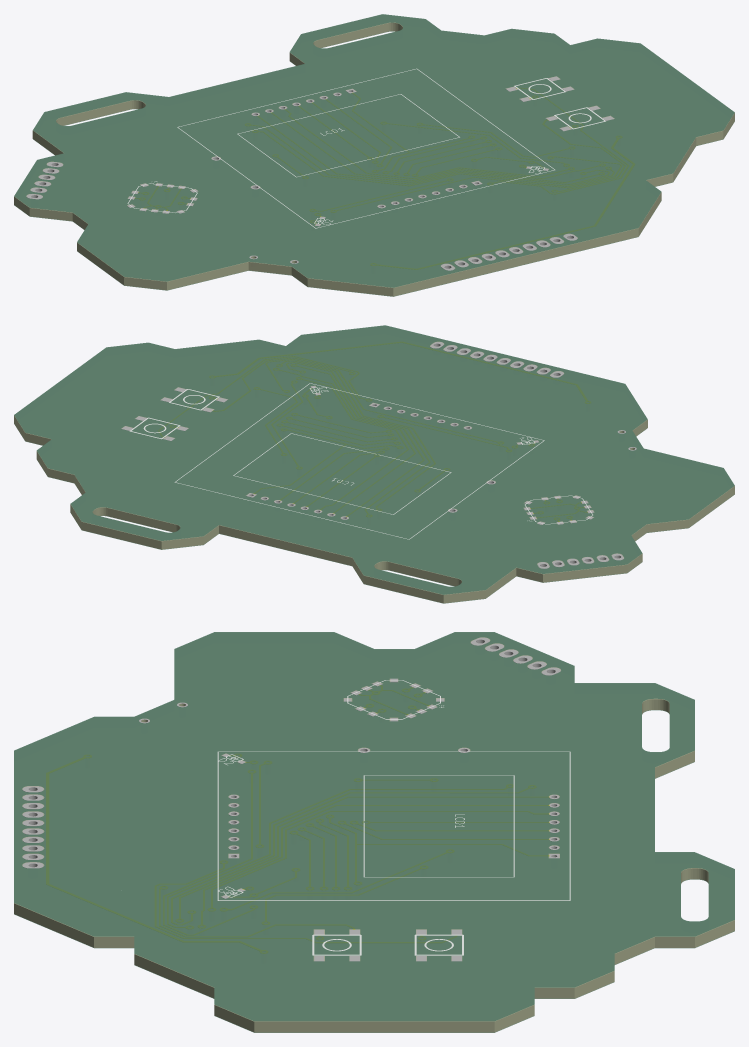
File: bsidesslc-2015-electronic-badge.glb
The picture shows the model from 3 angles, top to bottom: view 1: azimuth 30°, elevation 25°; view 2: azimuth 150°, elevation 25°; view 3: azimuth 270°, elevation 25°; orthographic projection. The views are drawn at different scales.
Parts seen in each view (by area): view 1: =>[0:1:1:7], =>[0:1:1:9], =>[0:1:1:2], =>[0:1:1:5]; view 2: =>[0:1:1:7], =>[0:1:1:9], =>[0:1:1:2], =>[0:1:1:5]; view 3: =>[0:1:1:7], =>[0:1:1:9], =>[0:1:1:2], =>[0:1:1:5].
Boxes of the visible parts, x1,y1,x2,y2 form: =>[0:1:1:7]: (14, 14, 734, 296); =>[0:1:1:9]: (14, 15, 734, 296); =>[0:1:1:2]: (26, 76, 634, 270); =>[0:1:1:5]: (127, 68, 605, 275); =>[0:1:1:7]: (14, 325, 734, 603); =>[0:1:1:9]: (14, 326, 734, 603); =>[0:1:1:2]: (121, 342, 636, 568); =>[0:1:1:5]: (129, 383, 592, 539); =>[0:1:1:7]: (14, 632, 734, 1032); =>[0:1:1:9]: (14, 633, 734, 1032); =>[0:1:1:2]: (22, 637, 560, 961); =>[0:1:1:5]: (151, 680, 570, 989).
Size of the model in its own units: 0.1168 by 0.00166 by 0.0914.
Materials: 4 (4 with a texture image).
